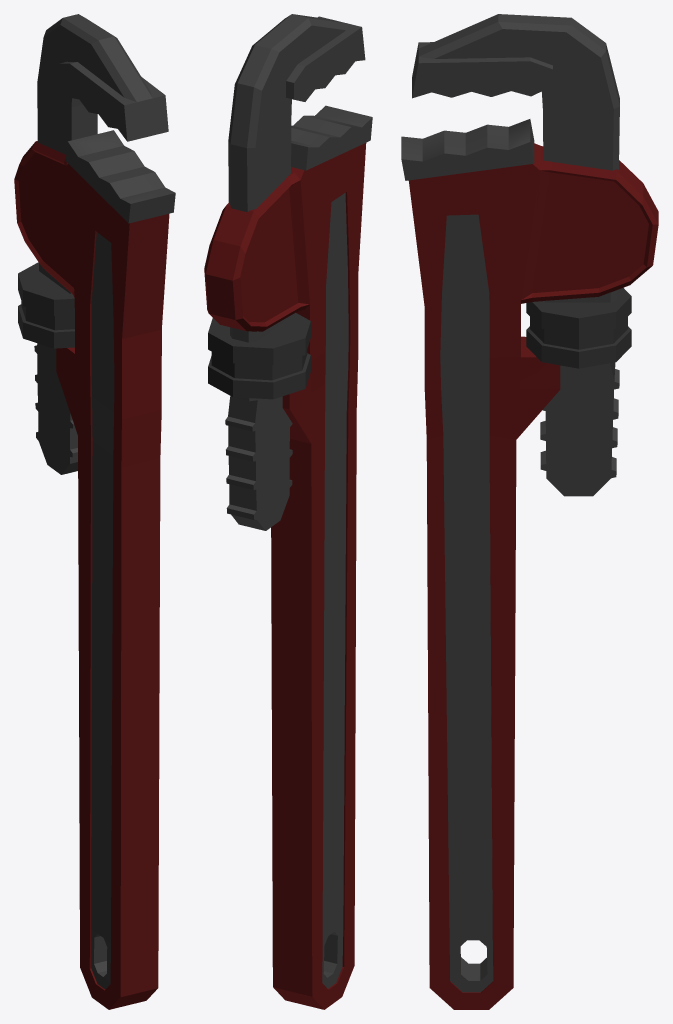
Rendered from wrench.fbx.
3 renders of one model, left to right at view 1: azimuth 30°, elevation 25°; view 2: azimuth 150°, elevation 25°; view 3: azimuth 270°, elevation 25°, orthographic. The views are drawn at different scales.
Visible parts, largest first — view 1: Cube; view 2: Cube; view 3: Cube.
Boxes of the visible parts, x1=… form: Cube: x1=14, y1=14, x2=175, y2=1009; Cube: x1=204, y1=14, x2=372, y2=1009; Cube: x1=401, y1=14, x2=658, y2=1009.
Size of the model in its own units: 4.62 by 47.59 by 11.3.
